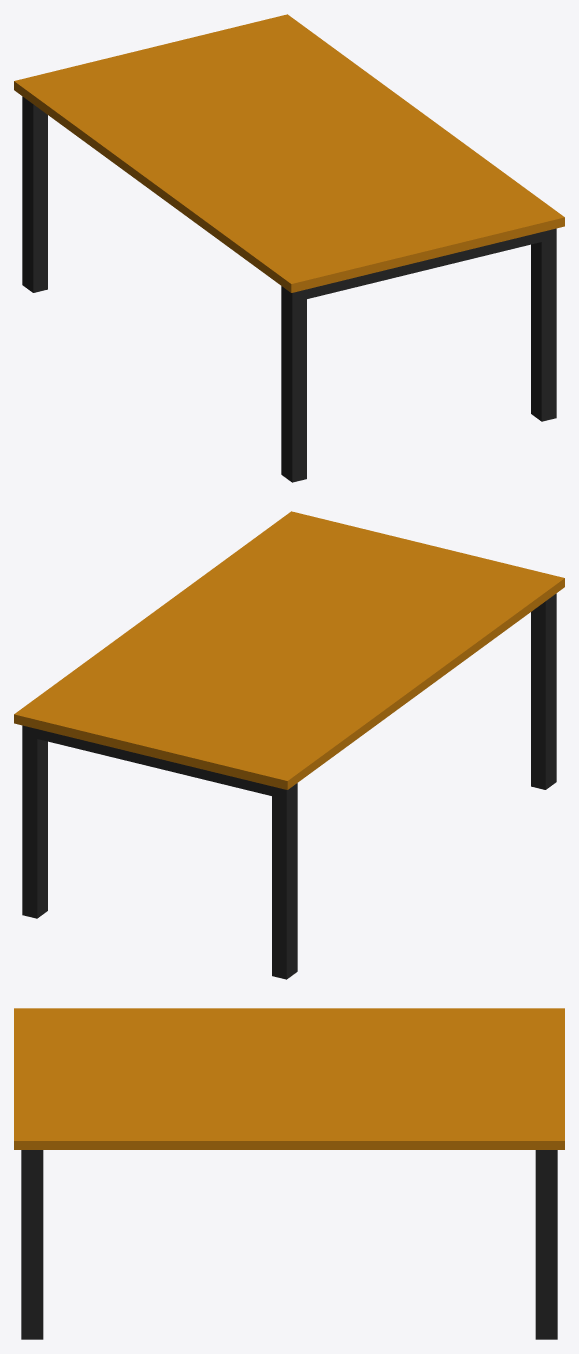
The model's file is table.fbx.
3 views of the same model, one above another, from view 1: azimuth 30°, elevation 25°; view 2: azimuth 150°, elevation 25°; view 3: azimuth 270°, elevation 25° (orthographic).
Parts seen in each view (by area): view 1: masa; view 2: masa; view 3: masa.
Boxes of the visible parts, x1,y1,x2,y2 form: masa: [14, 14, 564, 482]; masa: [14, 511, 564, 979]; masa: [14, 1008, 564, 1339].
Size of the model in its own units: 1332 by 941 by 2338.
